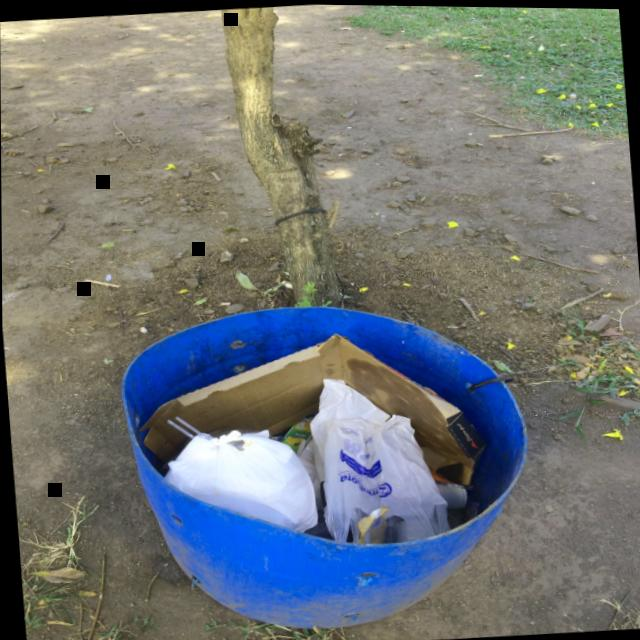Cigarette: (220, 302, 230, 304)
Drink carton: (279, 417, 312, 453)
Paper cup: (435, 482, 466, 508)
Pizza box: (137, 332, 487, 483)
Plastic film: (357, 505, 390, 542)
Plastic straw: (166, 418, 194, 438), (174, 415, 201, 433)
Single-use carrier bag: (297, 378, 449, 541), (163, 428, 317, 531)
